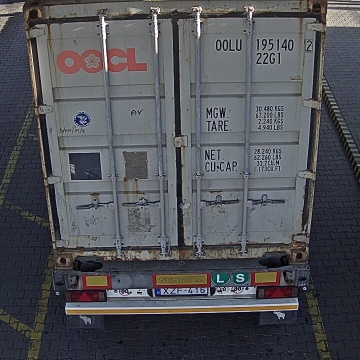serial_id: (216, 38, 312, 51)
